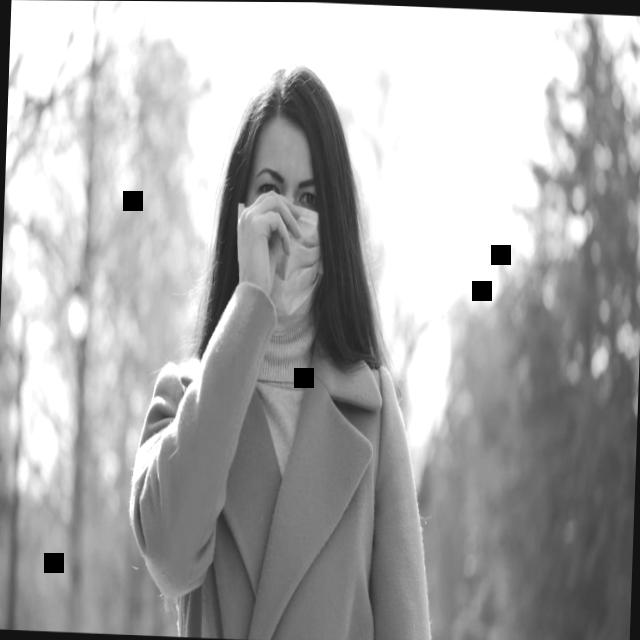Mask: (237, 141, 326, 330)
